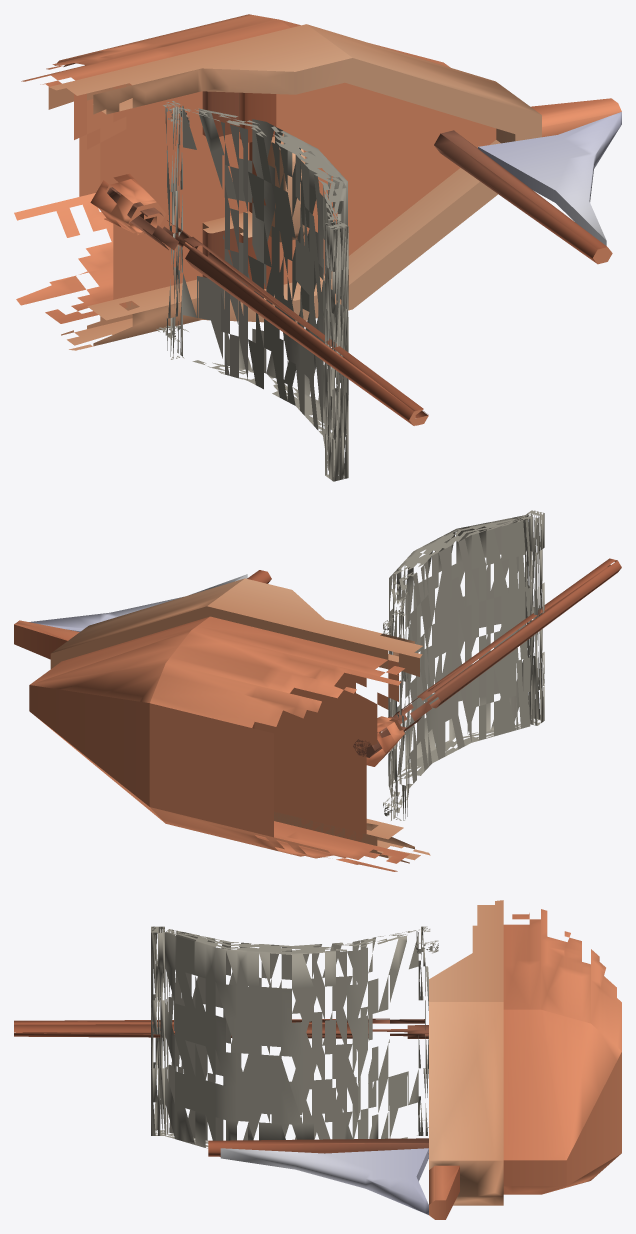
File: SM_Wreck_Large_Bow.obj
3 renders of one model, top to bottom at view 1: azimuth 30°, elevation 25°; view 2: azimuth 150°, elevation 25°; view 3: azimuth 270°, elevation 25°, orthographic. The views are drawn at different scales.
Parts seen in each view (by area): view 1: SM_Wreck_Large_Bow; view 2: SM_Wreck_Large_Bow; view 3: SM_Wreck_Large_Bow.
Boxes of the visible parts, left/top/right/bottom form: SM_Wreck_Large_Bow: left=14, top=14, right=621, bottom=481; SM_Wreck_Large_Bow: left=14, top=510, right=621, bottom=871; SM_Wreck_Large_Bow: left=14, top=900, right=621, bottom=1219.
Size of the model in its own units: 2541 by 1157 by 3130.
2 materials, 1 textured.
